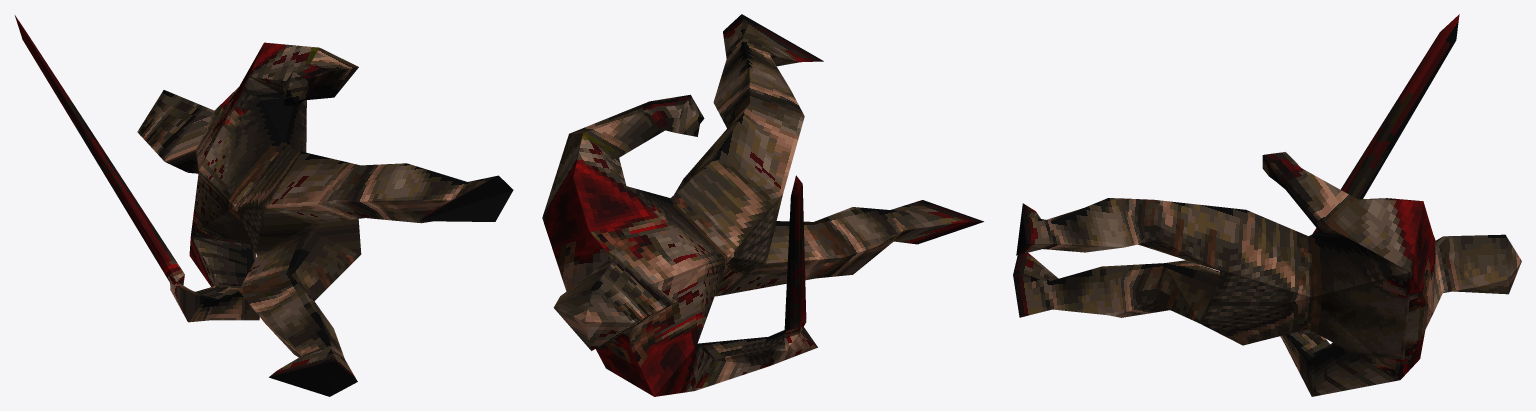
The model's file is knight.glb.
The picture shows the model from 3 angles, left to right: view 1: azimuth 30°, elevation 25°; view 2: azimuth 150°, elevation 25°; view 3: azimuth 270°, elevation 25°; orthographic projection. The views are drawn at different scales.
Parts seen in each view (by area): view 1: knight; view 2: knight; view 3: knight.
Part boxes in pixels (box(x1,y1,x2,y2)): knight: box(15, 15, 513, 396); knight: box(542, 14, 983, 396); knight: box(1013, 14, 1521, 396).
Size of the model in its own units: 31.73 by 31.39 by 48.58.
1 material, 1 textured.
